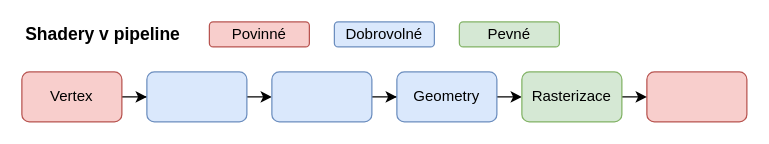
Some shapes in this 769 by 144 pixel diagram are drawn without their labels. The shapes that lost their labels are listed below. From the top down, each one's centre as x and y in pixels, then its label:
(196,96): Tessellation control
(321,96): Tessellation evaluation
(696,96): Fragment
